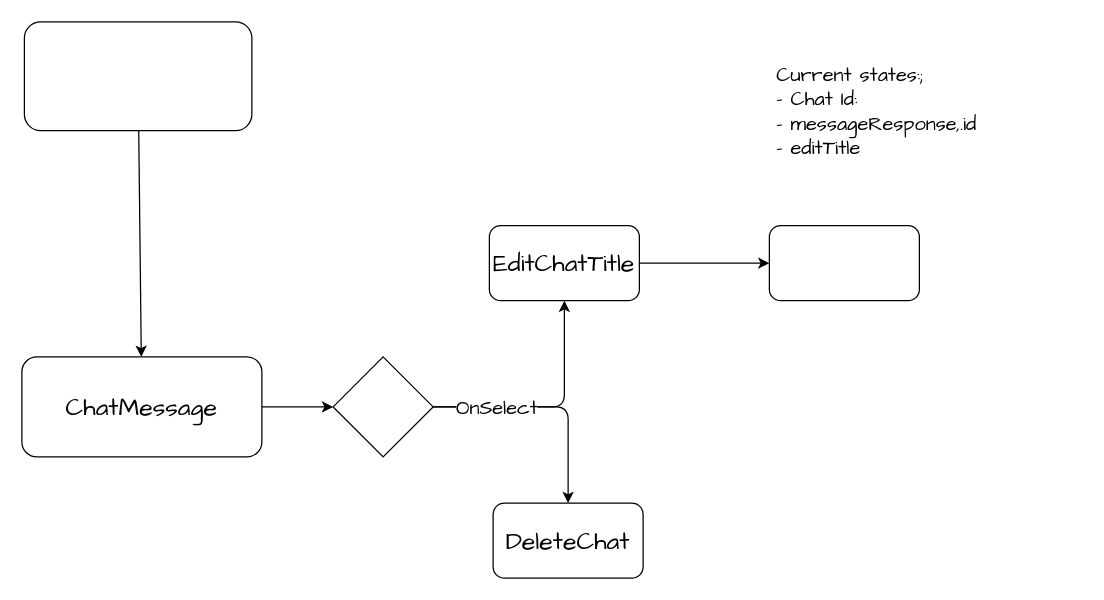
This 1104x600 diagram has some shape labels left out. Here are the shapes that lost their labels. From the top down, the centre of each, then its label:
point (137, 76): ChatMessageList
point (843, 262): EditInput
